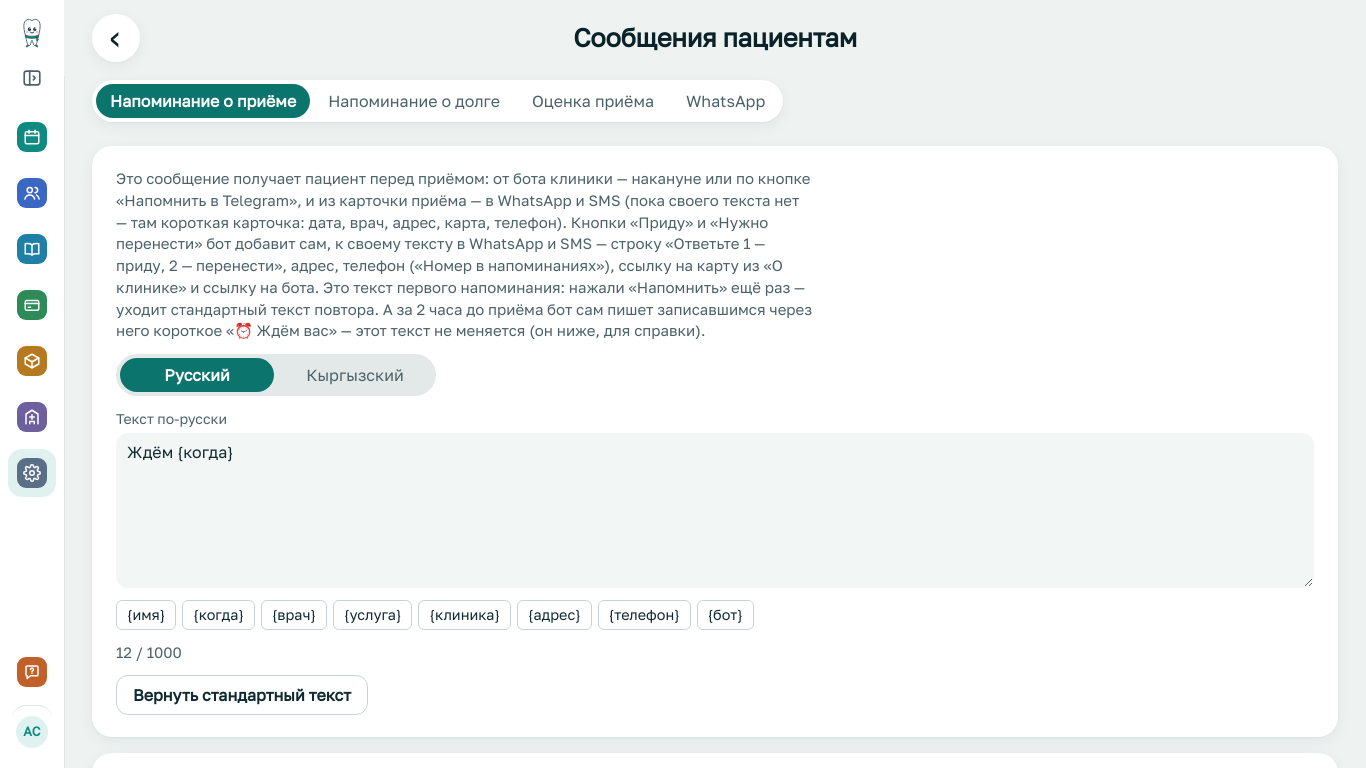
Test: «Вернуть стандартный текст» — сохраняется пусто; кыргызский пустой — уйдёт русский текст клиники
The image size is (1366, 768).
Click the button "Кыргызский" at [355, 375], box [278,358,432,392]
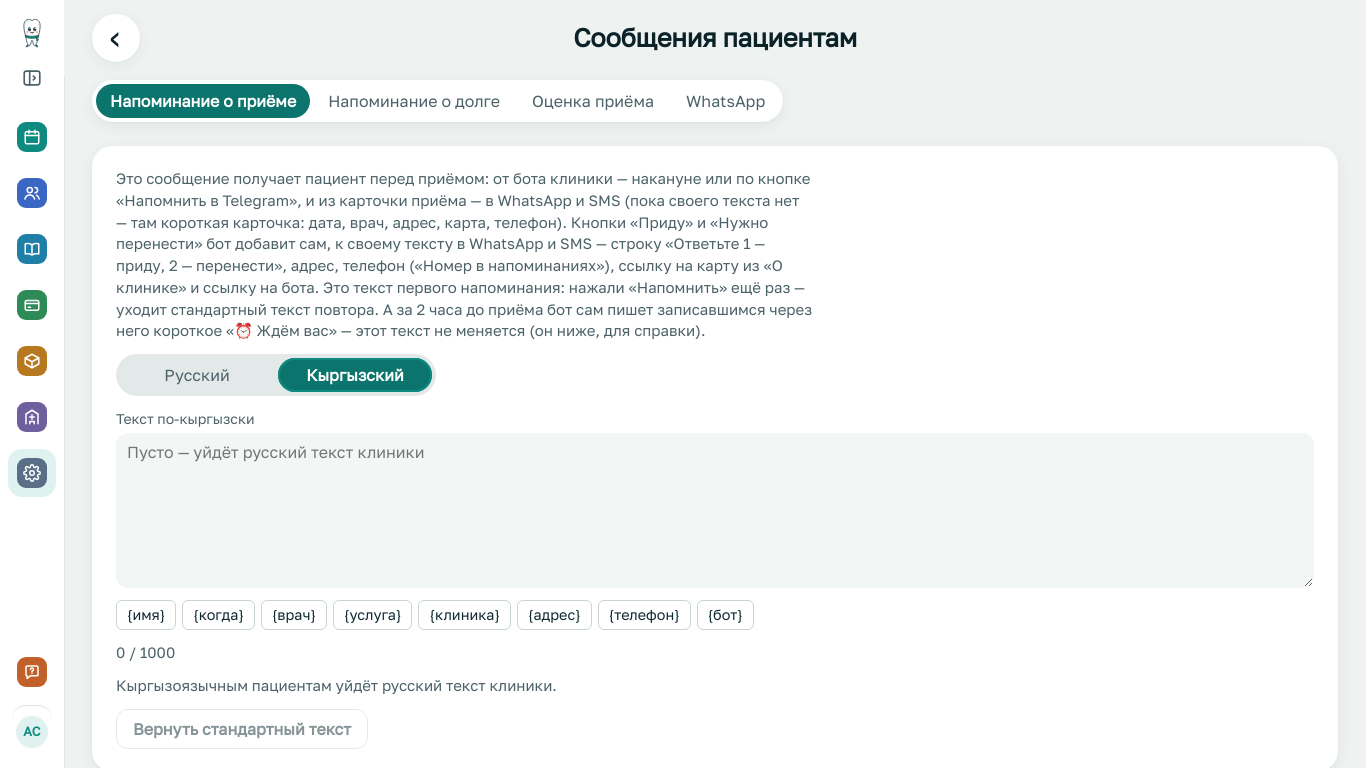
Check: the text box labelled "Текст по-кыргызски" is empty, box [116,433,1314,588]
Check: the text "Кыргызоязычным пациентам уйдёт русский текст клиники." is shown, box [116,676,557,694]
Click the button "Русский" at [197, 375], box [120,358,274,392]
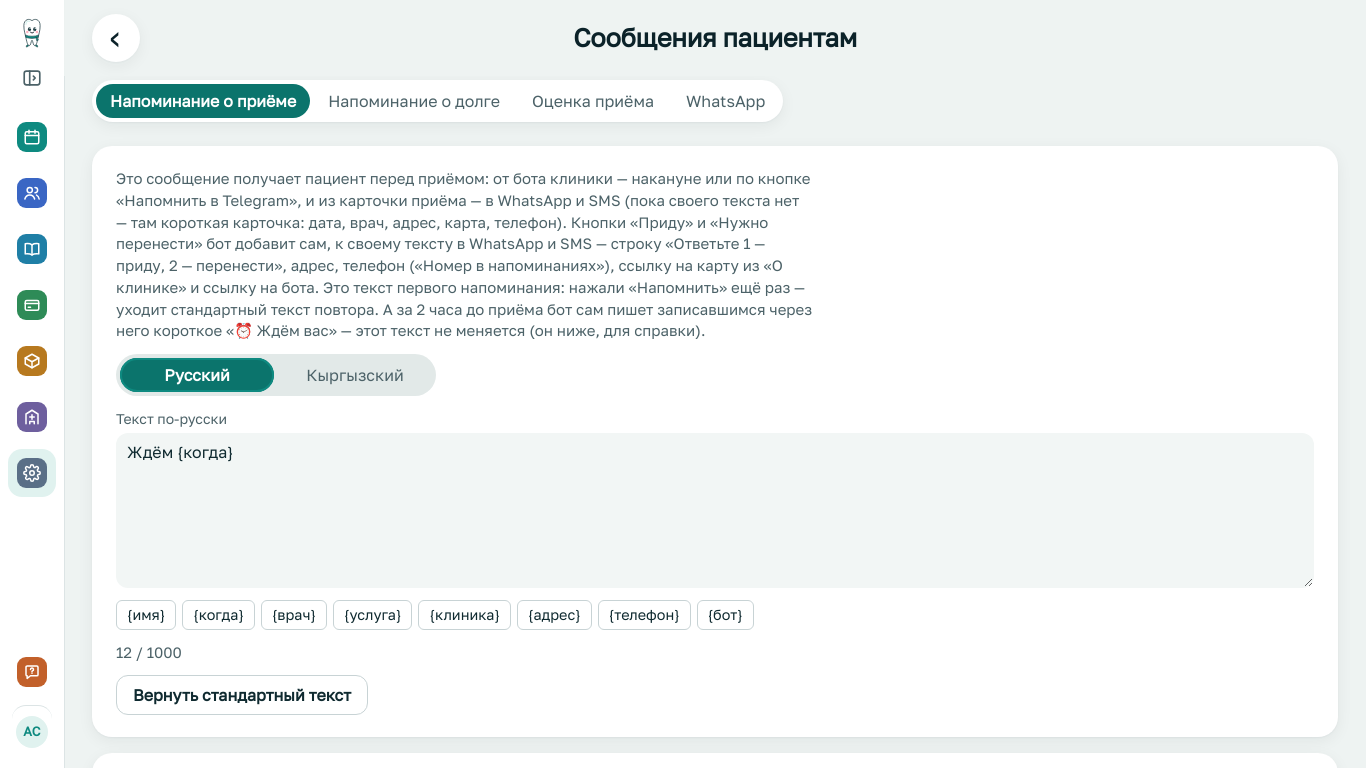
Click the button "Вернуть стандартный текст" at [242, 696], box [116,676,368,716]
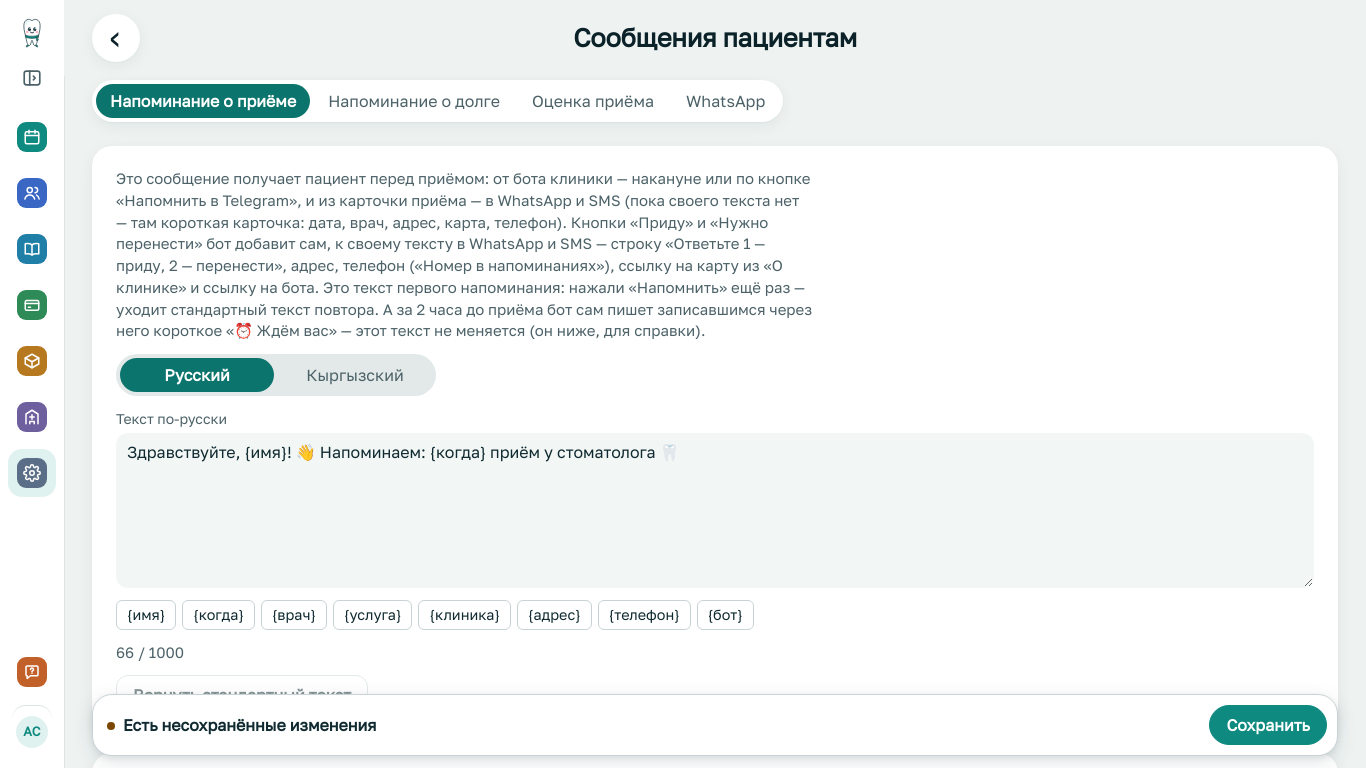
Check: the text box labelled "Текст по-русски" holds "Здравствуйте, {имя}! 👋 Напоминаем: {когда} приём у стоматолога 🦷", box [116,433,1314,588]
Click the button "Сохранить" at [1268, 725], box [1209,705,1327,745]
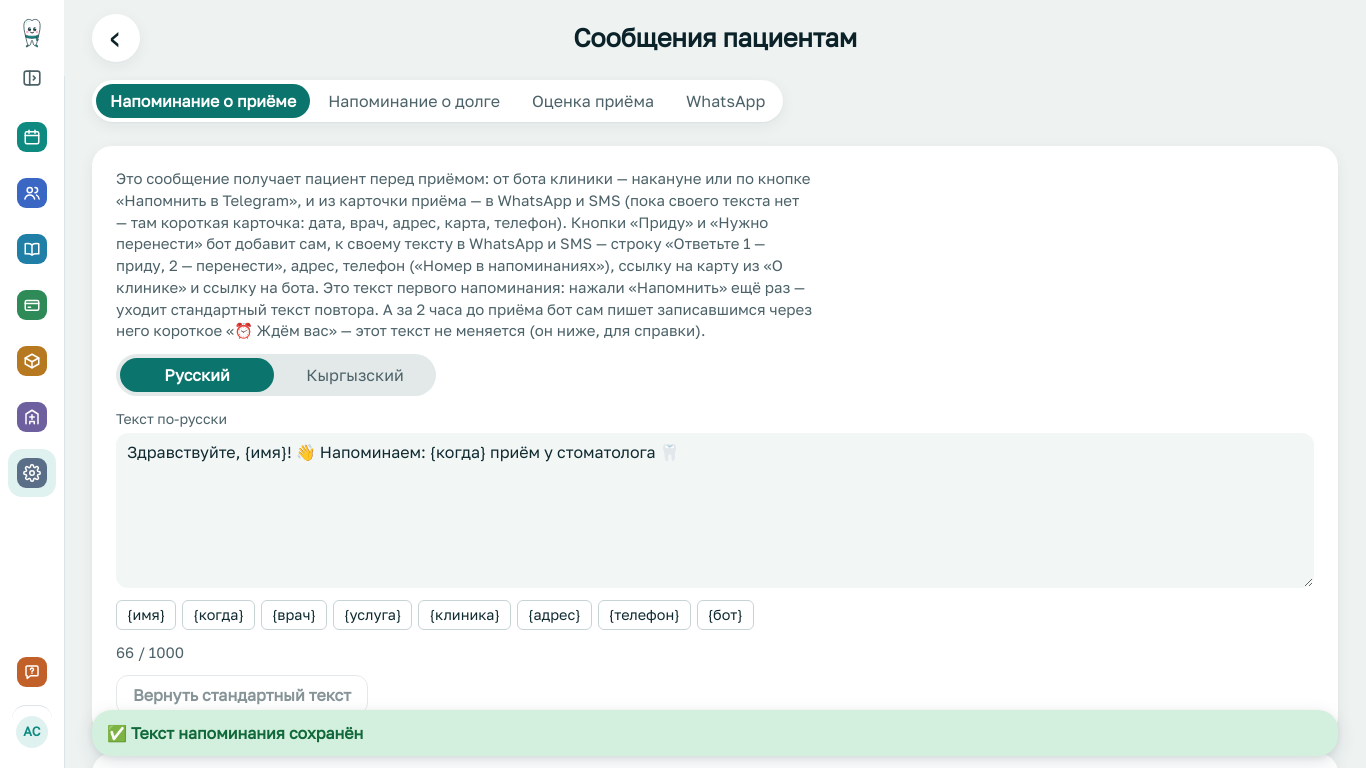
Check: the text "Текст напоминания сохранён" is shown, box [131,723,363,743]
